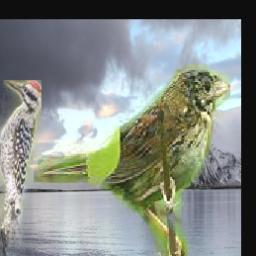Sparrow: (35, 65, 231, 256)
Woodpecker: (0, 81, 42, 256)
